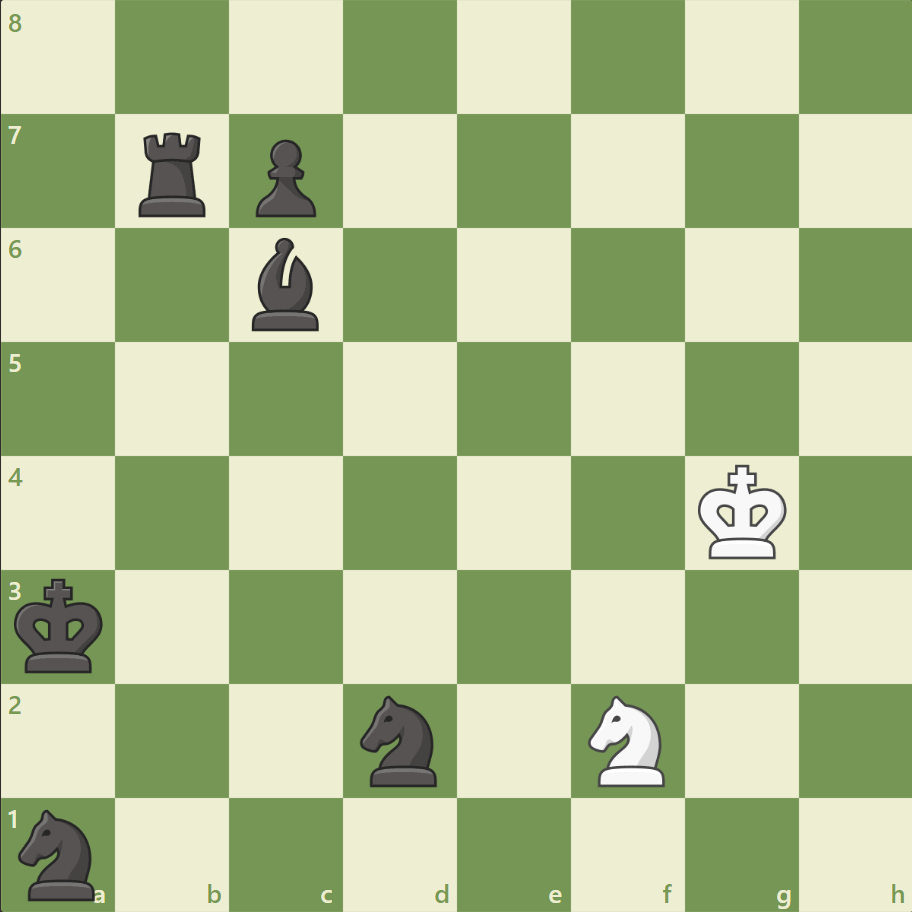K: (692, 458, 792, 566)
N: (579, 688, 676, 791)
b: (244, 233, 328, 336)
k: (11, 571, 111, 679)
n: (351, 688, 449, 791), (11, 802, 108, 904)
p: (247, 132, 322, 223)
r: (133, 125, 215, 222)
